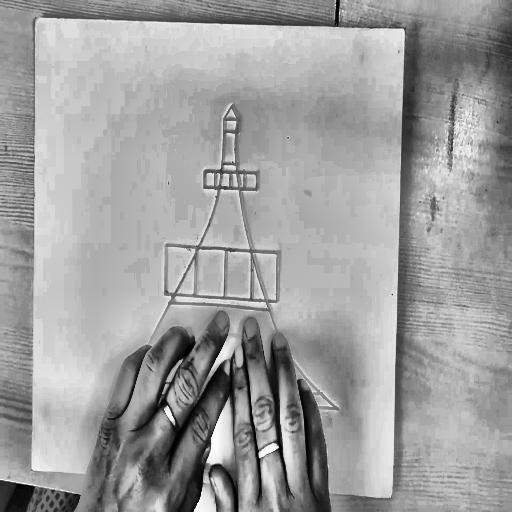bottom_left: (30, 467, 33, 473)
bottom_right: (389, 495, 393, 501)
eiffel-tower: (100, 92, 352, 421)
top_left: (33, 16, 37, 23)
top_right: (403, 27, 406, 32)
